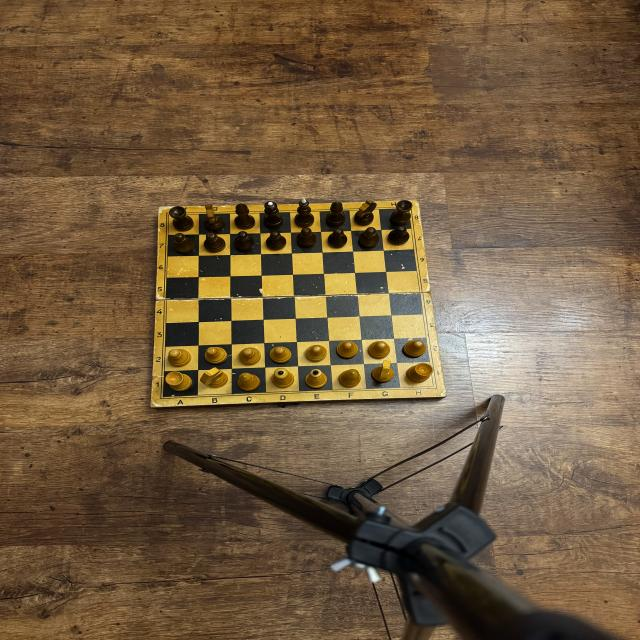black-bishop: (234, 203, 256, 230), (326, 202, 345, 228)
black-king: (294, 197, 315, 228)
black-knight: (353, 199, 377, 226), (202, 205, 225, 232)
black-pawn: (172, 233, 196, 254), (202, 232, 226, 253), (232, 231, 256, 252), (358, 227, 380, 248), (387, 226, 410, 246), (296, 227, 317, 248), (265, 230, 287, 250), (326, 228, 348, 248)
black-queen: (262, 201, 284, 230)
black-rook: (169, 206, 194, 232), (390, 200, 413, 225)
white-bishop: (237, 372, 261, 392), (338, 369, 361, 388)
white-king: (304, 369, 328, 389)
white-knight: (199, 367, 229, 388), (370, 360, 394, 383)
white-pawn: (167, 349, 192, 367), (238, 347, 261, 365), (403, 340, 426, 358), (306, 344, 328, 362), (368, 341, 390, 359), (205, 347, 228, 364), (269, 346, 292, 363), (336, 341, 359, 358)
white-queen: (272, 368, 294, 388)
white-rook: (405, 362, 434, 383), (165, 371, 193, 392)
